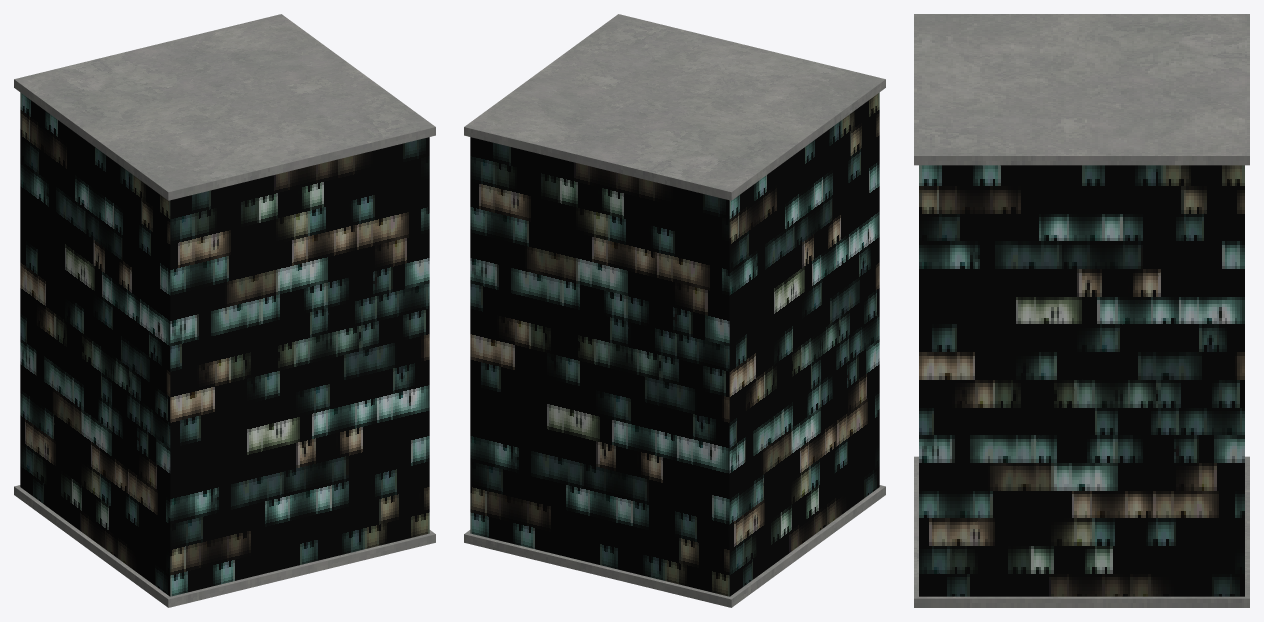
File: building_02.2.glb
The picture shows the model from 3 angles, left to right: view 1: azimuth 30°, elevation 25°; view 2: azimuth 150°, elevation 25°; view 3: azimuth 270°, elevation 25°; orthographic projection. The views are drawn at different scales.
Visible parts, largest first — view 1: building_02_22; view 2: building_02_22; view 3: building_02_22.
Part boxes in pixels (left/top/right/bottom): building_02_22: left=14, top=14, right=435, bottom=607; building_02_22: left=464, top=14, right=885, bottom=607; building_02_22: left=914, top=14, right=1249, bottom=607.
Size of the model in its own units: 33 by 49 by 33.
1 material, 1 textured.
